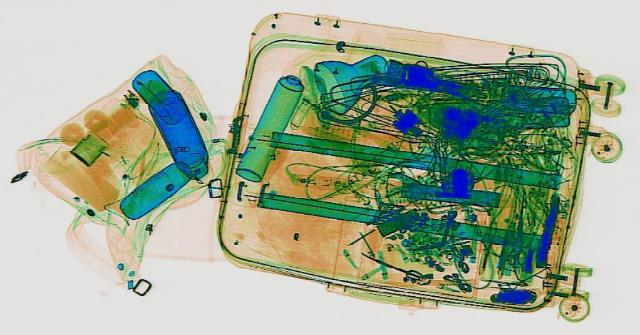Scissors: (352, 248, 426, 280)
